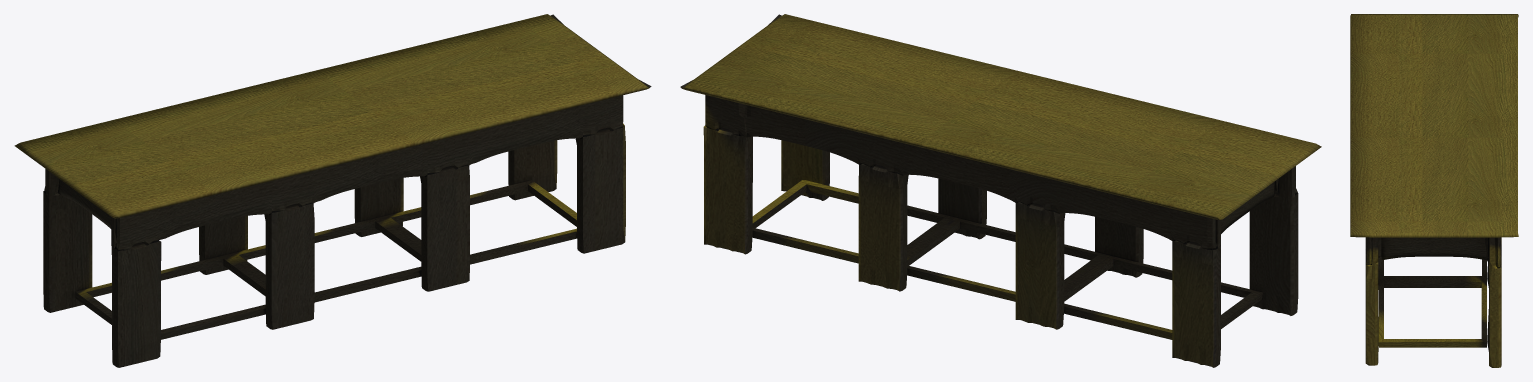
Rendered from BOARD ROOM DESK.fbx.
3 views of the same model, side by side, from view 1: azimuth 30°, elevation 25°; view 2: azimuth 150°, elevation 25°; view 3: azimuth 270°, elevation 25° (orthographic). The views are drawn at different scales.
Visible parts, largest first — view 1: Cube; view 2: Cube; view 3: Cube.
Boxes of the visible parts, x1=… form: Cube: x1=14, y1=14, x2=651, y2=367; Cube: x1=680, y1=14, x2=1321, y2=367; Cube: x1=1350, y1=14, x2=1518, y2=367.
Bounding box in the file's own units: 6.23 × 1.8 × 1.99.
1 material, 1 textured.
